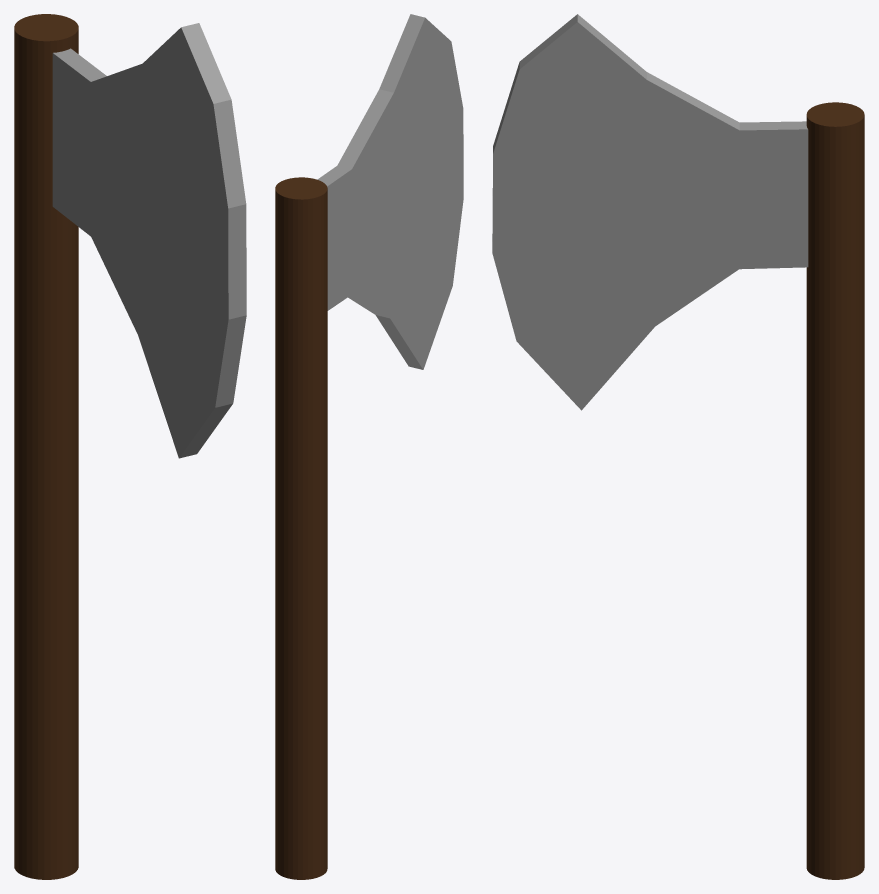
Rendered from Iron Axe.fbx.
3 renders of one model, left to right at view 1: azimuth 30°, elevation 25°; view 2: azimuth 150°, elevation 25°; view 3: azimuth 270°, elevation 25°, orthographic. The views are drawn at different scales.
Parts seen in each view (by area): view 1: Cylinder.019; view 2: Cylinder.019; view 3: Cylinder.019.
Part boxes in pixels (left/top/right/bottom): Cylinder.019: left=14, top=14, right=246, bottom=879; Cylinder.019: left=275, top=14, right=463, bottom=879; Cylinder.019: left=492, top=14, right=864, bottom=879.
Size of the model in its own units: 3.49 by 56.42 by 22.39.
